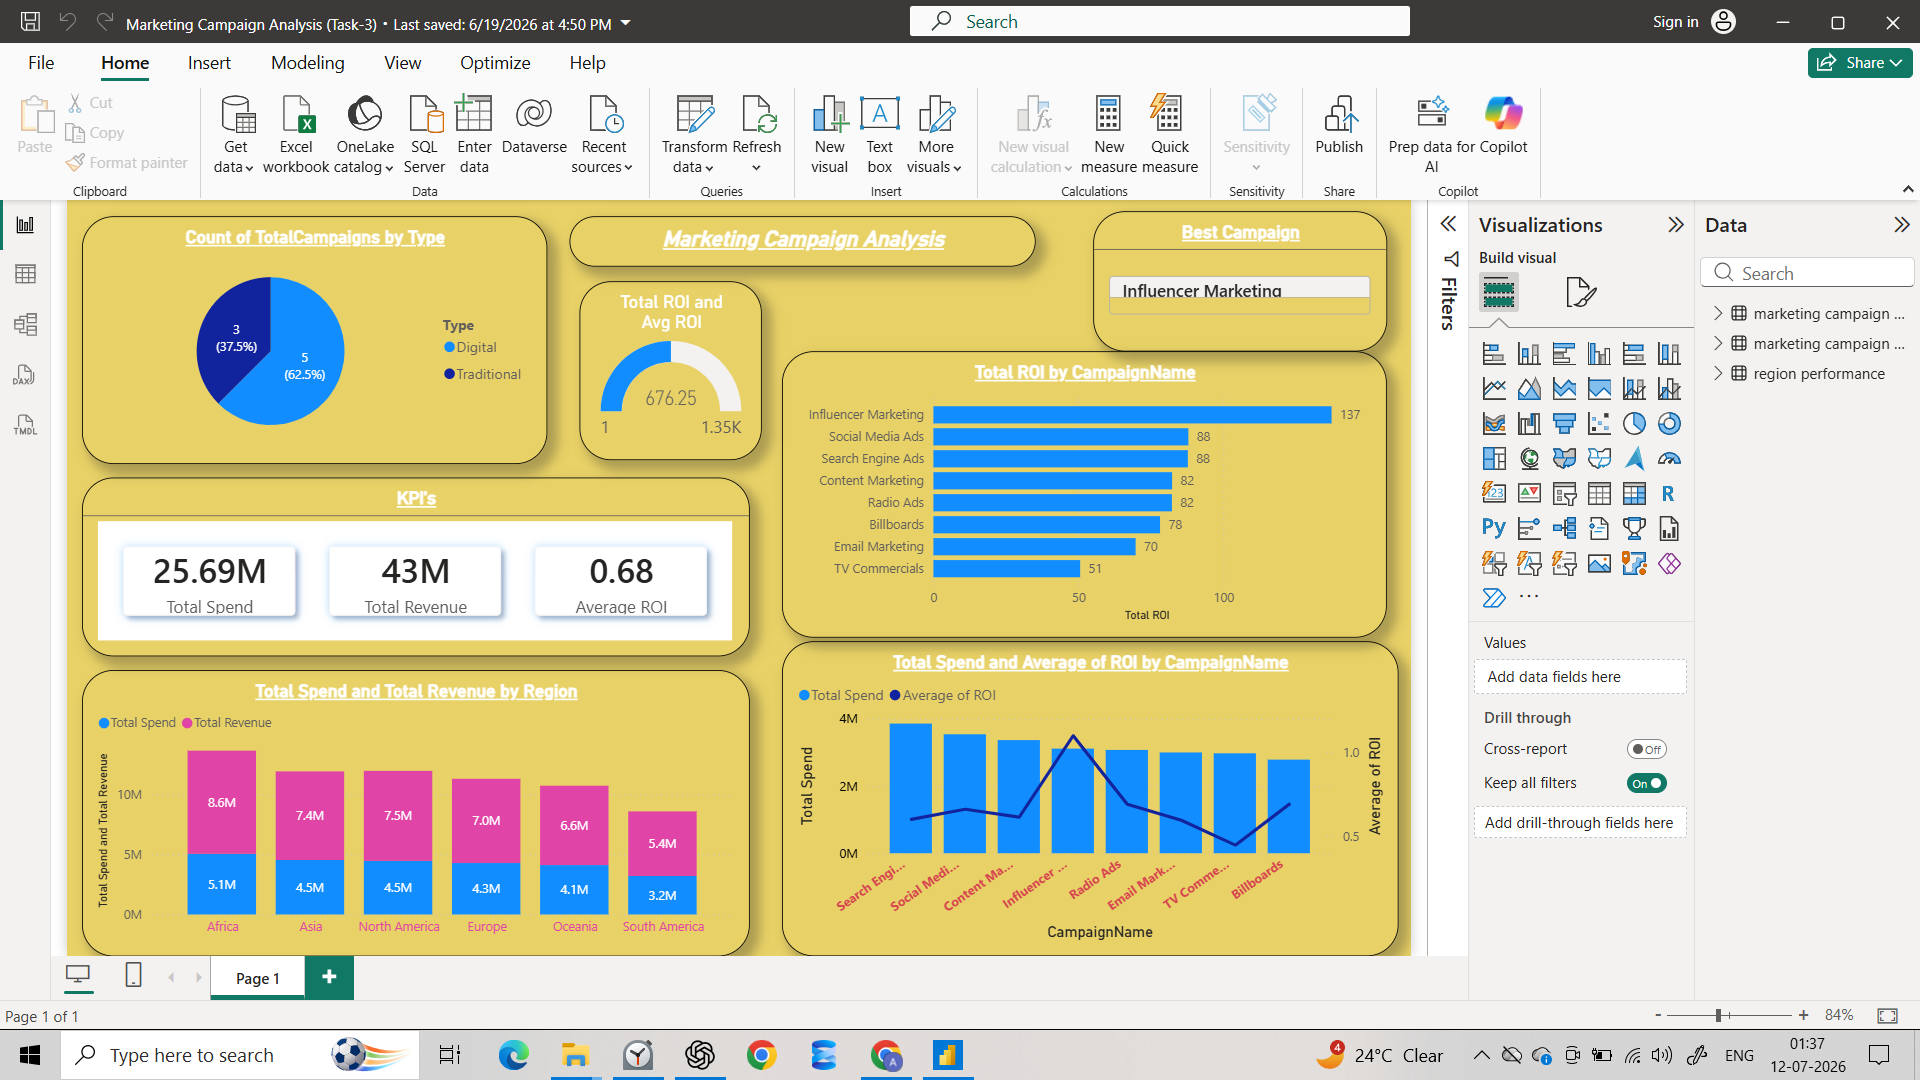

This screenshot's page, from the dashboard's own definition file:
{"tool":"powerbi","page":{"name":"Page 1","canvas":[1280,720],"ordinal":0},"visuals":[{"type":"cardVisual","title":"Best Campaign","fields":{"Rows":["marketing campaign performance.CampaignName"]},"box":[977.4,10.7,279.8,133.3],"z":0},{"type":"cardVisual","title":"KPI''s","fields":{"Data":["marketing campaign performance.Total Spend","marketing campaign performance.Total Revenue","Avg(marketing campaign details.AverageROI)"]},"box":[14.3,264.3,635.7,170.2],"z":1000},{"type":"columnChart","fields":{"Y":["marketing campaign performance.Total Spend","marketing campaign performance.Total Revenue"],"Category":["marketing campaign performance.Region"]},"box":[14.3,447.6,635.7,272.6],"z":2000},{"type":"barChart","fields":{"Y":["marketing campaign performance.Total ROI"],"Category":["marketing campaign performance.CampaignName"]},"box":[681,144,576.2,272.6],"z":3000},{"type":"pieChart","fields":{"Y":["CountNonNull(marketing campaign details.TotalCampaigns)"],"Category":["marketing campaign details.Type"]},"box":[14.3,15.5,442.9,235.7],"z":4000},{"type":"gauge","title":"Total ROI and Avg ROI","fields":{"Y":["Sum(marketing campaign performance.ROI)"],"MinValue":["marketing campaign performance.Avg ROI"]},"box":[488.1,77.4,173.8,170.2],"z":5000},{"type":"lineStackedColumnComboChart","fields":{"Y2":["Avg(marketing campaign performance.ROI)"],"Category":["marketing campaign performance.CampaignName"],"Y":["marketing campaign performance.Total Spend"]},"box":[681,420.2,586.9,300],"z":6000},{"type":"textbox","title":"Marketing Campaign Analysis ","box":[478.6,15.5,444,47.6],"z":7000}]}

Visuals, with their boxes on the page's 1280x720 design canvas (x1, y1, x2, y2). These are canvas units, not pixel positions in the 1920x1080 screenshot, which may show the page scaled, cropped or inside an application window:
"Best Campaign" cardVisual: [x1=977, y1=11, x2=1257, y2=144]
"KPI''s" cardVisual: [x1=14, y1=264, x2=650, y2=434]
columnChart - marketing campaign performance.Total Spend x marketing campaign performance.Total Revenue: [x1=14, y1=448, x2=650, y2=720]
barChart - marketing campaign performance.Total ROI x marketing campaign performance.CampaignName: [x1=681, y1=144, x2=1257, y2=417]
pieChart - CountNonNull(marketing campaign details.TotalCampaigns) x marketing campaign details.Type: [x1=14, y1=16, x2=457, y2=251]
"Total ROI and Avg ROI" gauge: [x1=488, y1=77, x2=662, y2=248]
lineStackedColumnComboChart - Avg(marketing campaign performance.ROI) x marketing campaign performance.CampaignName: [x1=681, y1=420, x2=1268, y2=720]
"Marketing Campaign Analysis " textbox: [x1=479, y1=16, x2=923, y2=63]
